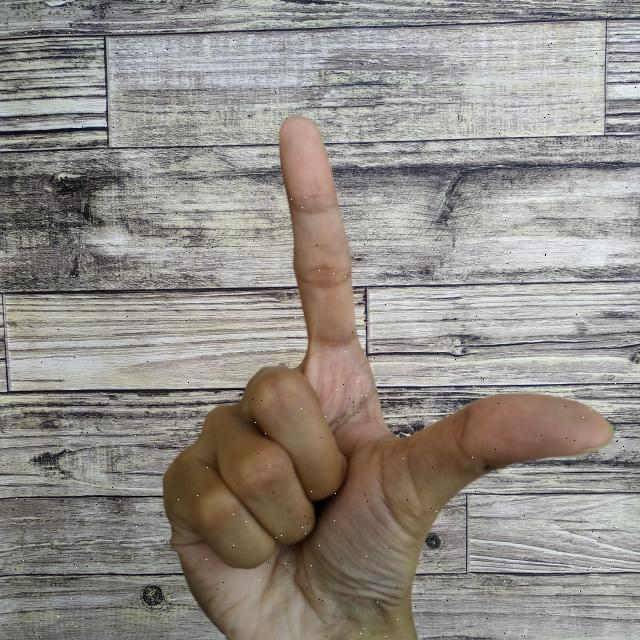L: (152, 106, 624, 640)
